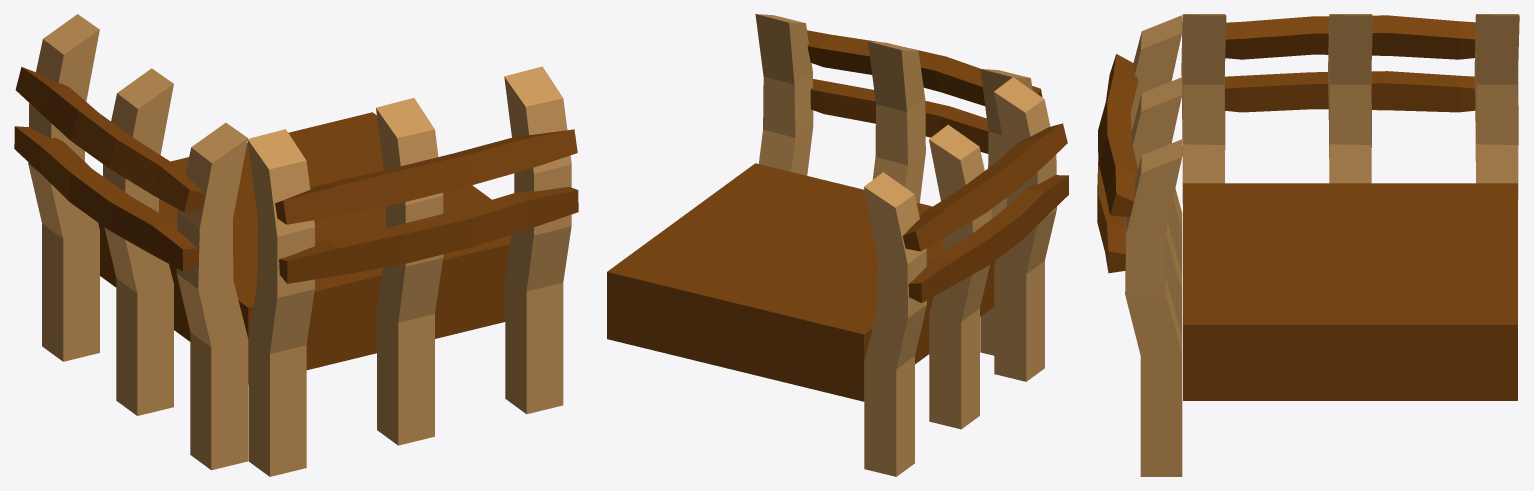
File: kopru2Kose.fbx
3 views of the same model, side by side, from view 1: azimuth 30°, elevation 25°; view 2: azimuth 150°, elevation 25°; view 3: azimuth 270°, elevation 25° (orthographic). The views are drawn at different scales.
Visible parts, largest first — view 1: Köprü2 Köşe; view 2: Köprü2 Köşe; view 3: Köprü2 Köşe.
Boxes of the visible parts, x1,y1,x2,y2 form: Köprü2 Köşe: (14, 14, 578, 476); Köprü2 Köşe: (607, 14, 1068, 476); Köprü2 Köşe: (1097, 14, 1519, 476).
Size of the model in its own units: 252 by 211 by 252.
